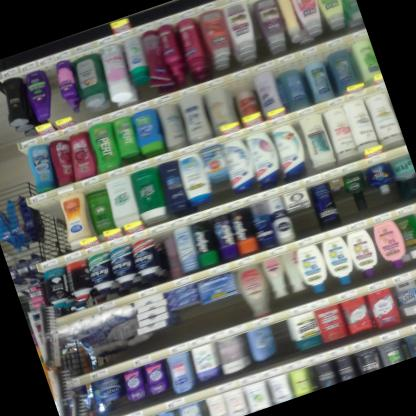empty_space: (32, 198, 74, 253), (269, 318, 297, 356)
